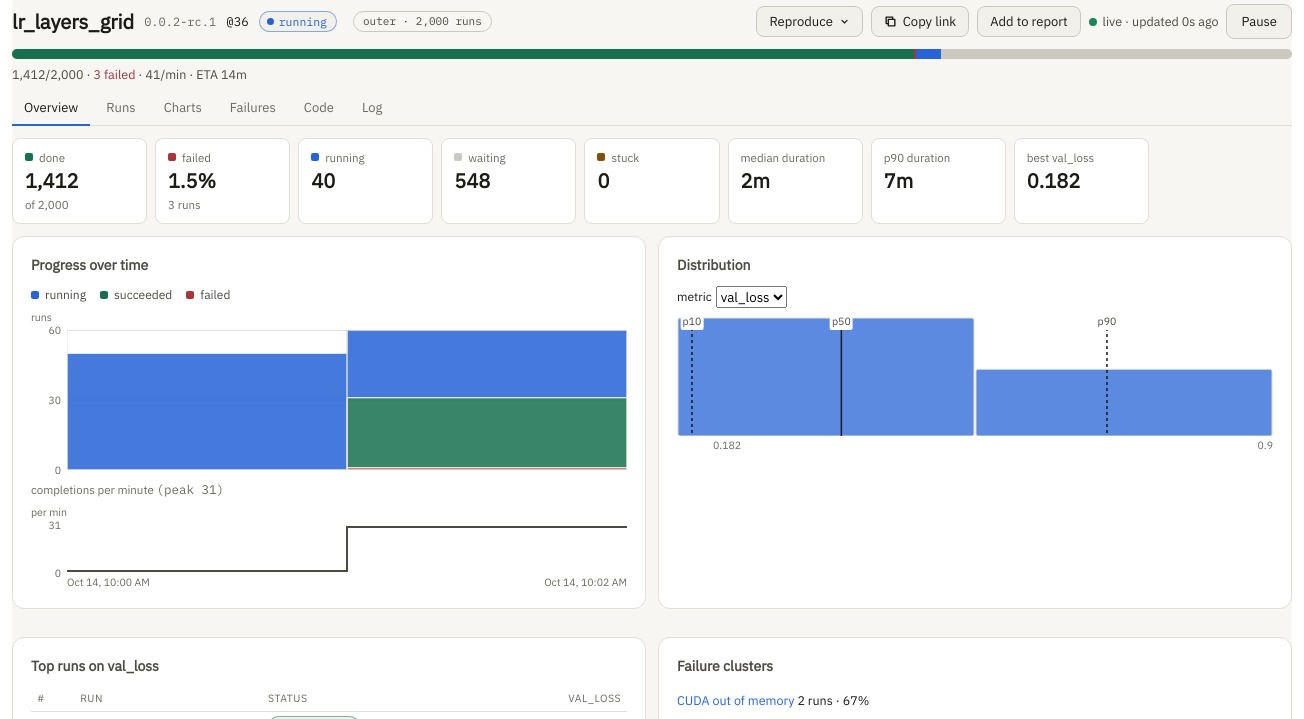
Test: the job page › follows the job's subtree live and refreshes its summary on a change
The image size is (1304, 719).
Expected: the element named "Outer run" is shown, [12,92,1292,126]
Expected: the text "live · updated 0s ago" is shown, [1089,12,1218,31]
Click the button "Pause" at (1259,22), box [1226,4,1292,39]
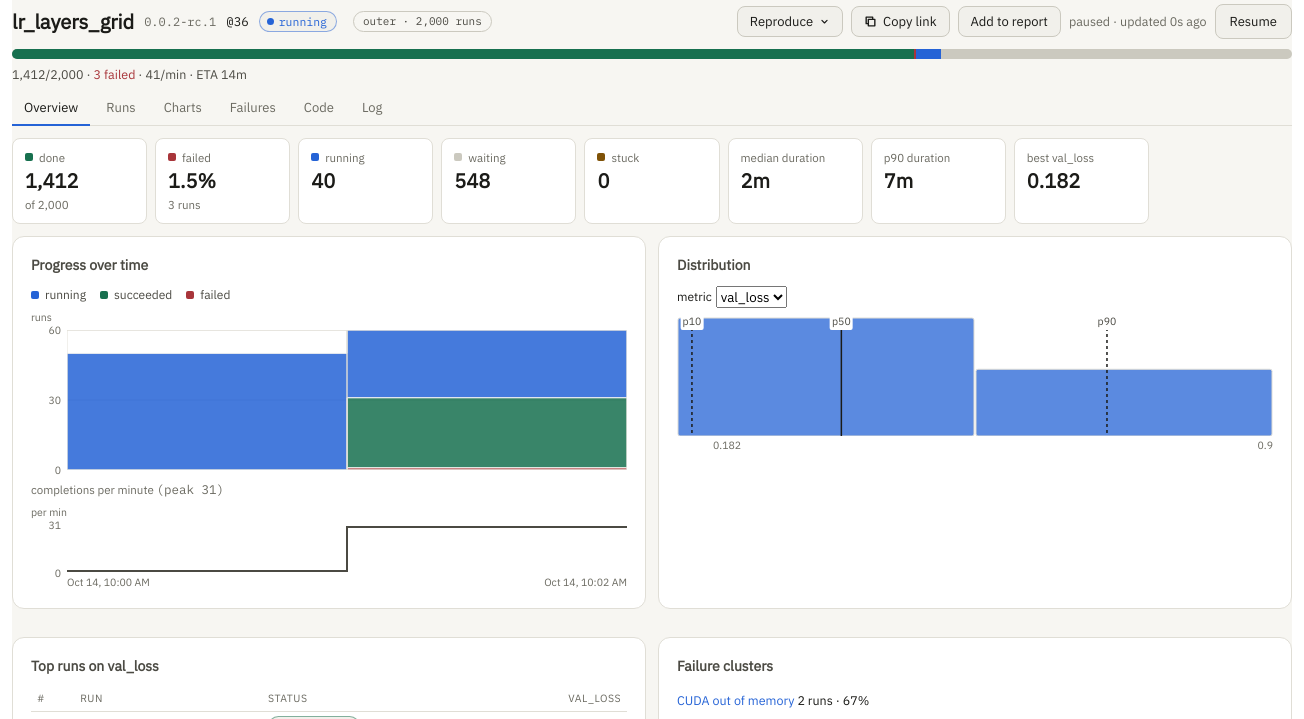
Expected: the text "paused · updated 0s ago" is shown, [1069,12,1206,31]
